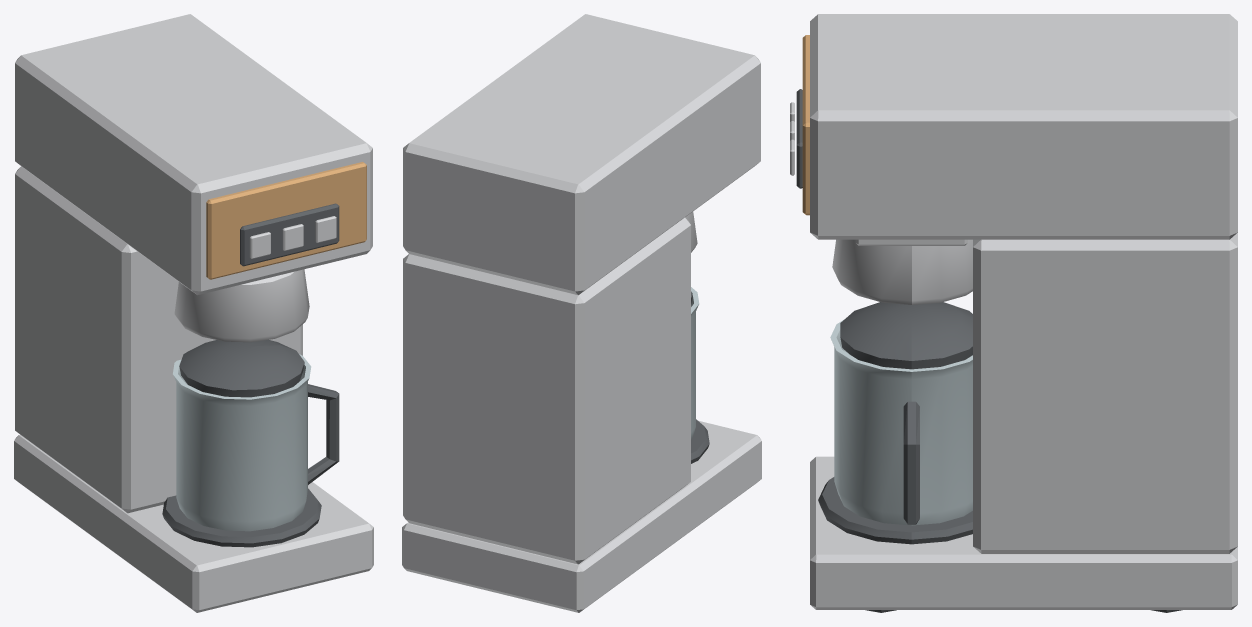
Rendered from bakery-and-cafe-batch-brewer-71876f8b__22120.glb.
3 views of the same model, side by side, from view 1: azimuth 30°, elevation 25°; view 2: azimuth 150°, elevation 25°; view 3: azimuth 270°, elevation 25° (orthographic). The views are drawn at different scales.
Parts seen in each view (by area): view 1: batch-brewer; view 2: batch-brewer; view 3: batch-brewer.
Part boxes in pixels (x1=…): batch-brewer: x1=14, y1=14, x2=373, y2=612; batch-brewer: x1=402, y1=14, x2=761, y2=612; batch-brewer: x1=790, y1=14, x2=1237, y2=612.
Size of the model in its own units: 0.2463 by 0.558 by 0.4395.
